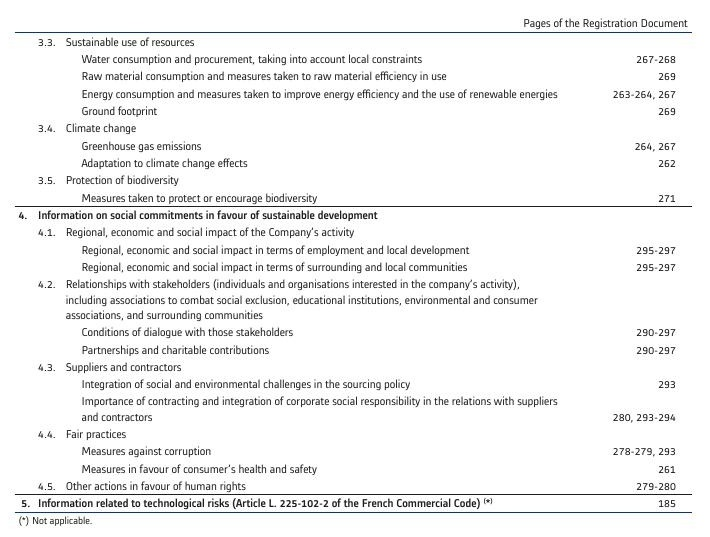table: (0, 0, 710, 537)
